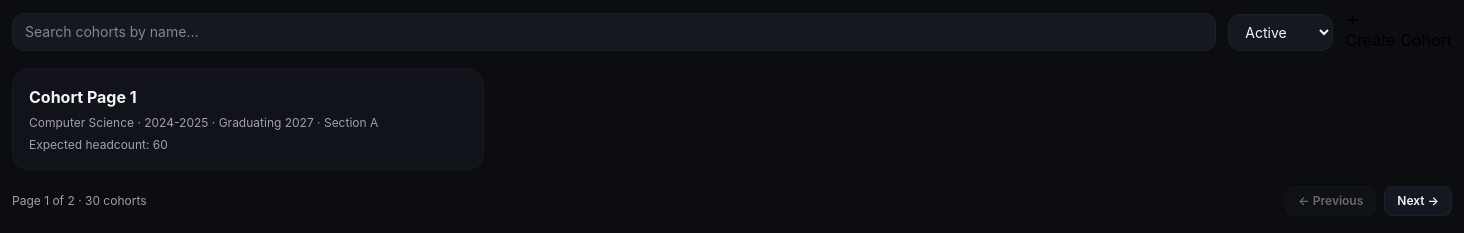
Test: TpoCohortsPanel › paginates using items/total/page/limit directly
Check: the heading "Cohort Page 1" is shown, box [29,85,137,109]
Check: the button "← Previous" is disabled, box [1285,186,1376,216]
Click the button "Next →".
click(1418, 201)  # box [1384,186,1452,216]
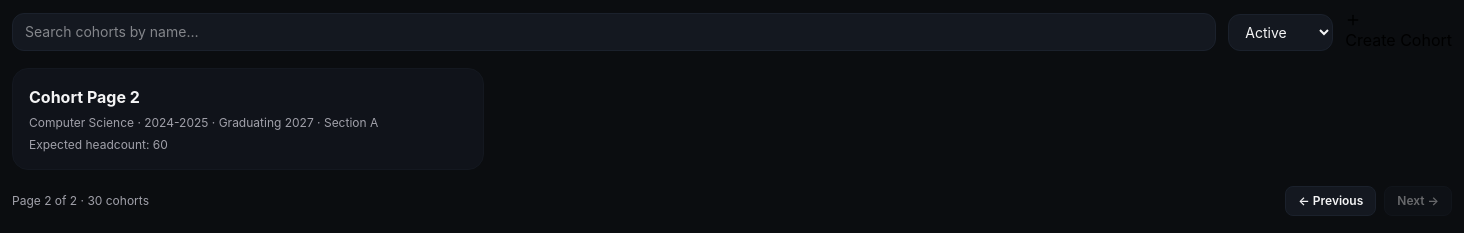
Check: the heading "Cohort Page 2" is shown, box [29,85,140,109]
